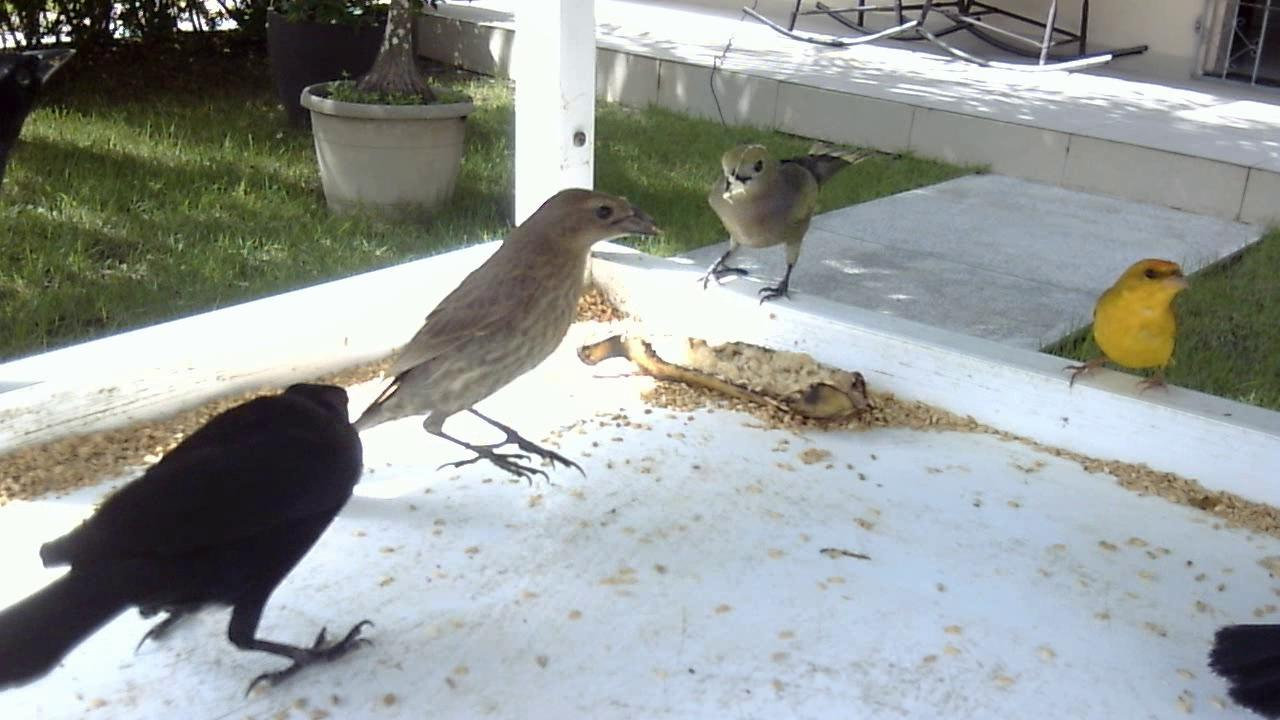canario_do_amazonas: (1040, 248, 1210, 409)
chupim: (1, 348, 386, 701), (345, 182, 663, 505)
sanhaco_do_coqueiro: (685, 124, 889, 318)
